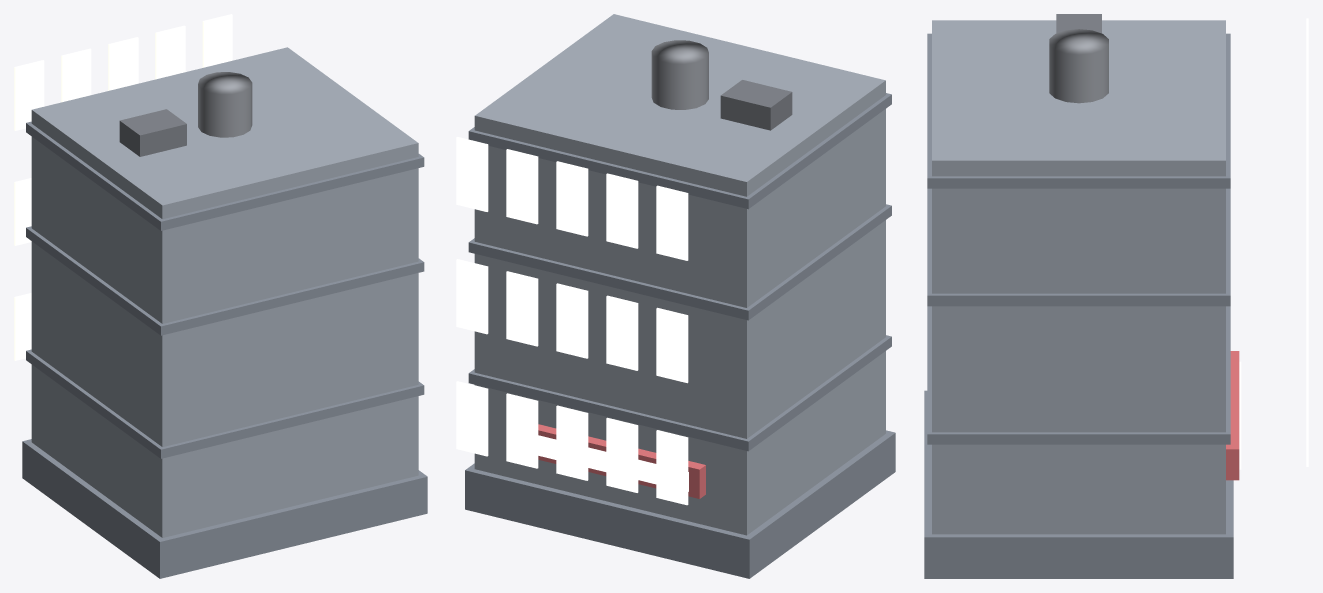
File: bld_arcade_a.glb
3 views of the same model, side by side, from view 1: azimuth 30°, elevation 25°; view 2: azimuth 150°, elevation 25°; view 3: azimuth 270°, elevation 25° (orthographic). The views are drawn at different scales.
Parts seen in each view (by area): view 1: BldArcadeA_0, BldArcadeA_1, BldArcadeA_4, BldArcadeA_6, BldArcadeA_7; view 2: BldArcadeA_0, BldArcadeA_1, BldArcadeA_4, BldArcadeA_6, BldArcadeA_7, BldArcadeA_10, BldArcadeA_12; view 3: BldArcadeA_0, BldArcadeA_1, BldArcadeA_6, BldArcadeA_10, BldArcadeA_4, BldArcadeA_7.
Boxes of the visible parts, bbox=[...] form: BldArcadeA_0: bbox=[31, 47, 418, 537]; BldArcadeA_1: bbox=[22, 121, 427, 578]; BldArcadeA_4: bbox=[14, 14, 232, 360]; BldArcadeA_6: bbox=[198, 72, 252, 137]; BldArcadeA_7: bbox=[119, 109, 186, 156]; BldArcadeA_0: bbox=[474, 14, 885, 535]; BldArcadeA_1: bbox=[465, 93, 895, 578]; BldArcadeA_4: bbox=[456, 137, 688, 505]; BldArcadeA_6: bbox=[651, 40, 708, 109]; BldArcadeA_7: bbox=[720, 80, 792, 130]; BldArcadeA_10: bbox=[538, 424, 705, 498]; BldArcadeA_12: bbox=[538, 435, 688, 491]; BldArcadeA_0: bbox=[932, 20, 1225, 534]; BldArcadeA_1: bbox=[924, 33, 1233, 578]; BldArcadeA_6: bbox=[1049, 29, 1108, 103]; BldArcadeA_10: bbox=[1226, 351, 1239, 480]; BldArcadeA_4: bbox=[1306, 18, 1308, 466]; BldArcadeA_7: bbox=[1056, 14, 1101, 33].
Bounding box in the file's own units: 9.1 × 13.4 × 10.06.
